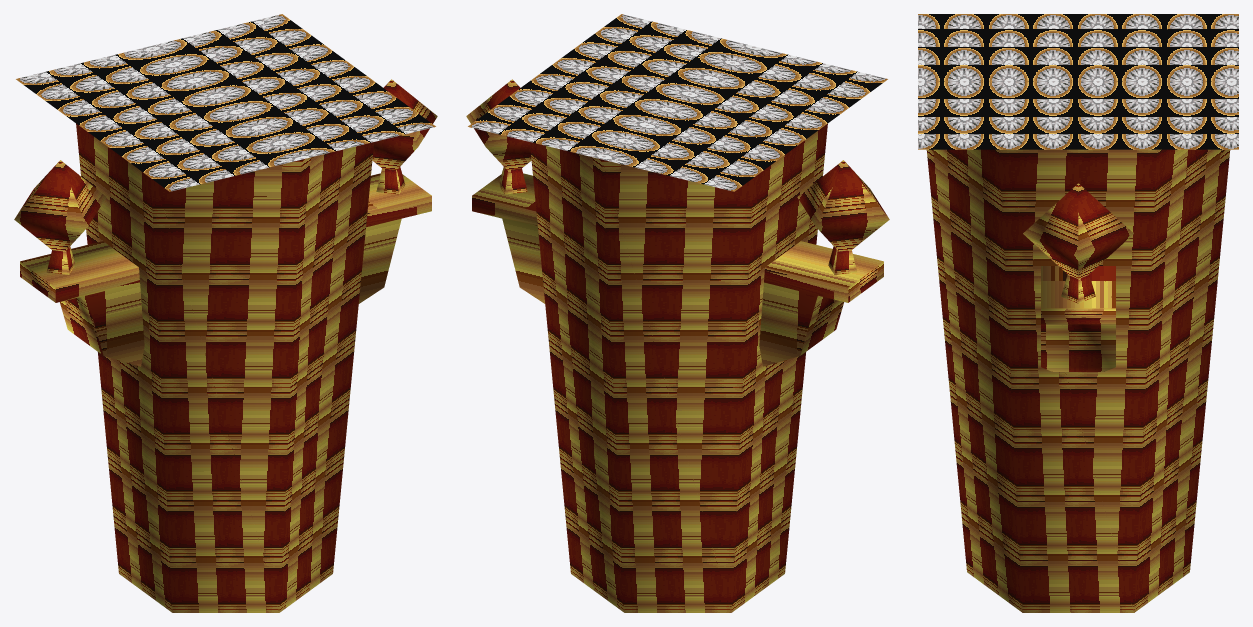
The model's file is 3328IMIG10_07.gltf.
3 views of the same model, side by side, from view 1: azimuth 30°, elevation 25°; view 2: azimuth 150°, elevation 25°; view 3: azimuth 270°, elevation 25° (orthographic). The views are drawn at different scales.
Visible parts, largest first — view 1: 3328IMIG10_07; view 2: 3328IMIG10_07; view 3: 3328IMIG10_07.
Boxes of the visible parts, bbox=[...] form: 3328IMIG10_07: bbox=[14, 14, 437, 612]; 3328IMIG10_07: bbox=[466, 14, 889, 612]; 3328IMIG10_07: bbox=[918, 14, 1238, 612].
Bounding box in the file's own units: 0.9922 × 1.05 × 0.625.
Materials: 2 (2 with a texture image).
